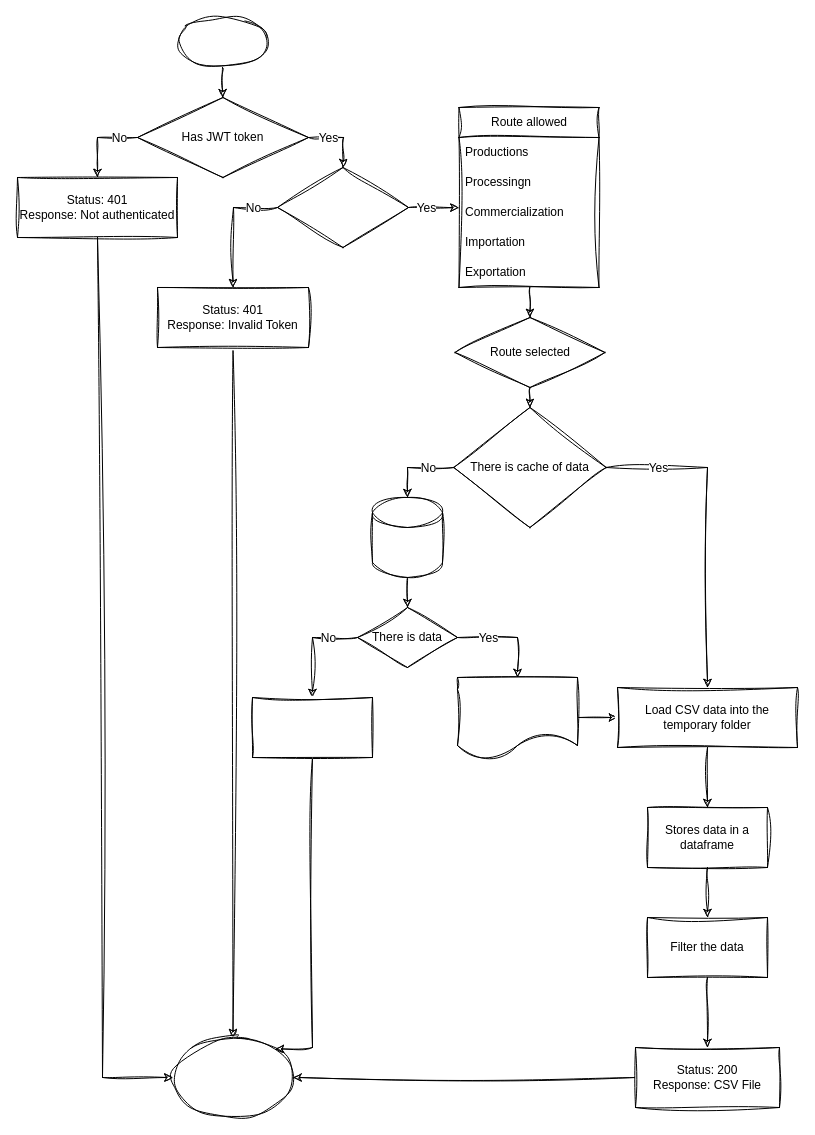
The diagram is 815 pixels wide and 1135 high, and some of its shapes have lost their labels. The shapes that lost their labels are listed below. From the top down, each one's centre as x and y in pixels, then its label:
At pixel 222 42: "Start".
At pixel 342 207: "Token JWT valid".
At pixel 407 537: "Find data".
At pixel 312 727: "Status: 404 Response: Data not found.".
At pixel 517 717: "Save data to temporary csv file".
At pixel 232 1077: "End".
